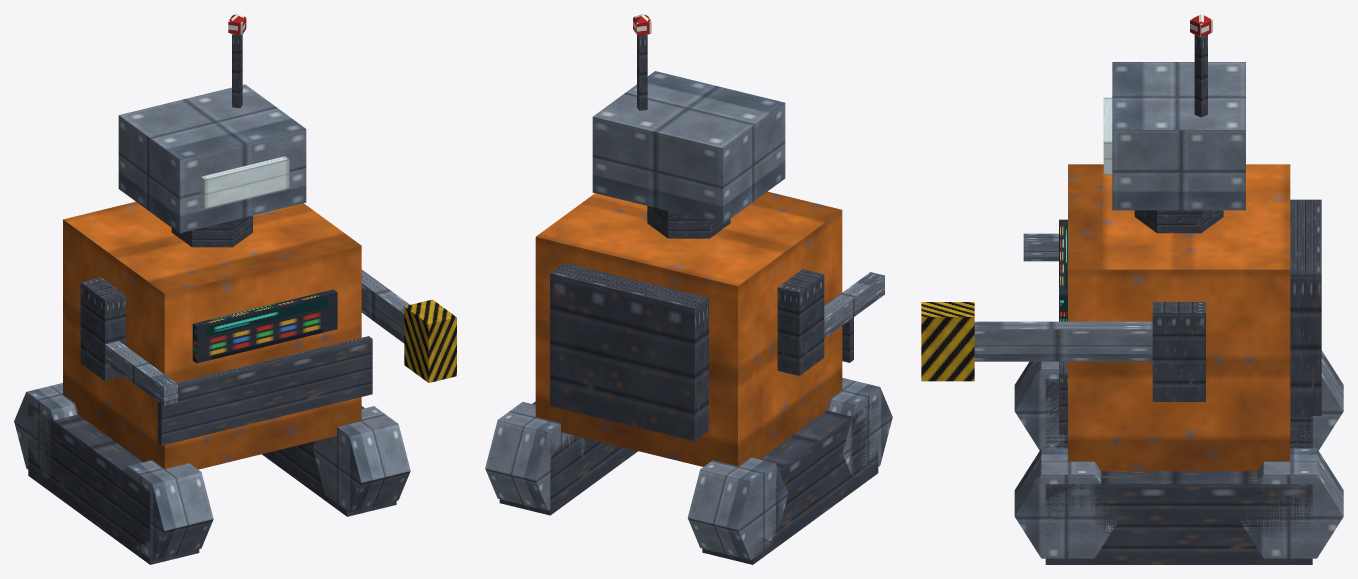
File: maintenance_robot.obj
The picture shows the model from 3 angles, left to right: view 1: azimuth 30°, elevation 25°; view 2: azimuth 150°, elevation 25°; view 3: azimuth 270°, elevation 25°; orthographic projection. The views are drawn at different scales.
Visible parts, largest first — view 1: maintenance_robot; view 2: maintenance_robot; view 3: maintenance_robot.
Part boxes in pixels (x1,y1,x2,y2): maintenance_robot: [14, 14, 456, 564]; maintenance_robot: [485, 14, 892, 564]; maintenance_robot: [921, 14, 1343, 564].
Bounding box in the file's own units: 0.71 × 1.25 × 0.95.
1 material, 1 textured.
